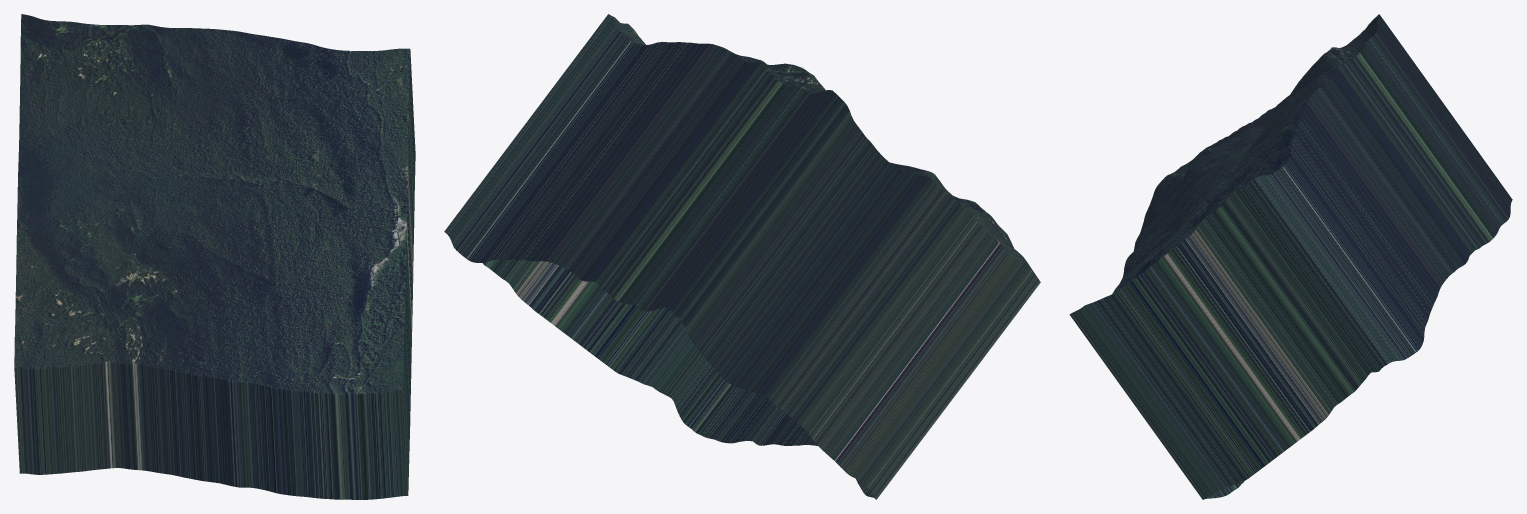
3 views of the same model, side by side, from view 1: azimuth 30°, elevation 25°; view 2: azimuth 150°, elevation 25°; view 3: azimuth 270°, elevation 25° (orthographic). The views are drawn at different scales.
Bounding box in the file's own units: 6235 × 5562 × 5819.
1 material, 1 textured.
